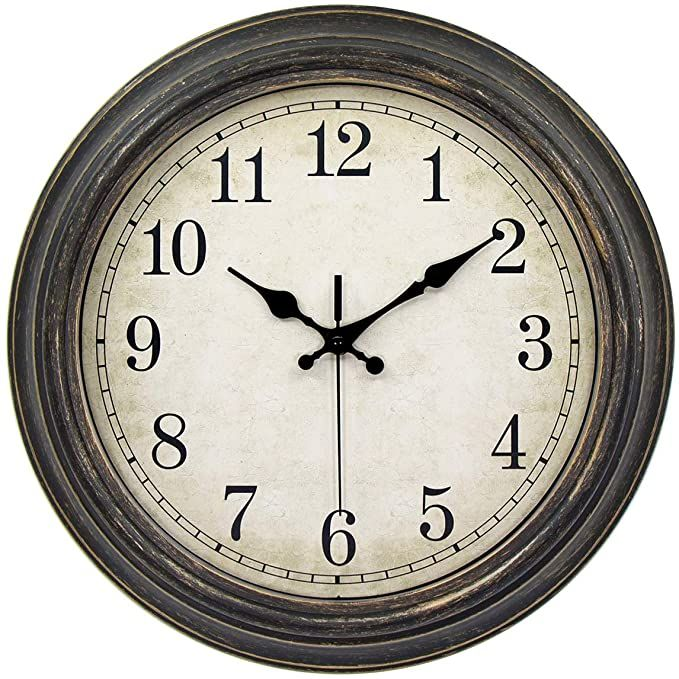clock: (12, 8, 672, 674)
